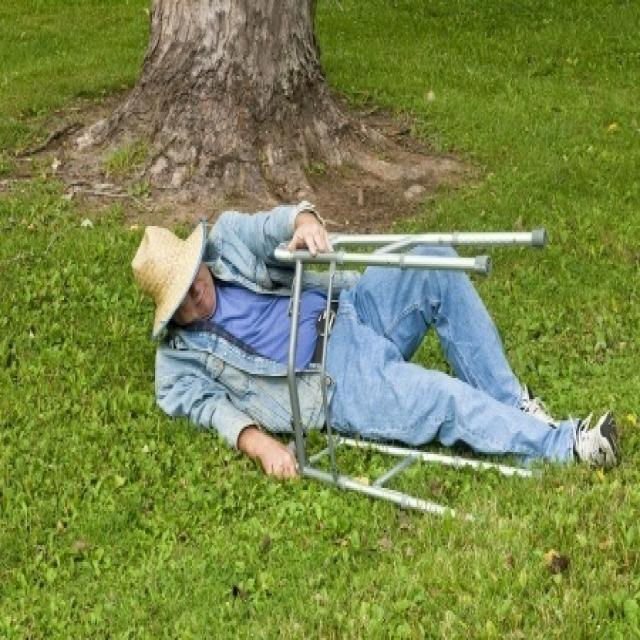Fall-Detected: (122, 201, 618, 505)
